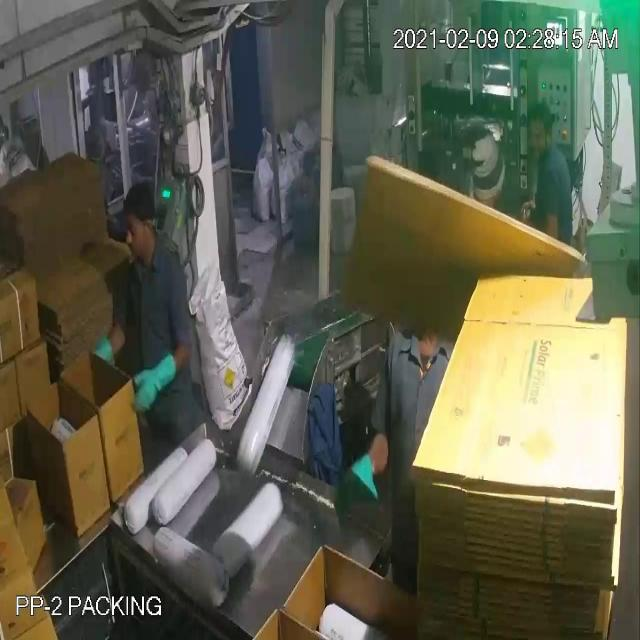Gloves: (46, 60, 357, 482)
